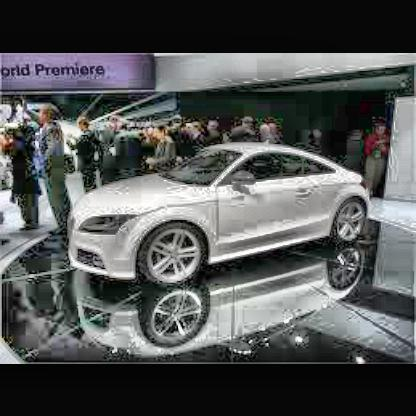Audi TTS Coupe 2012: (64, 137, 375, 294)
